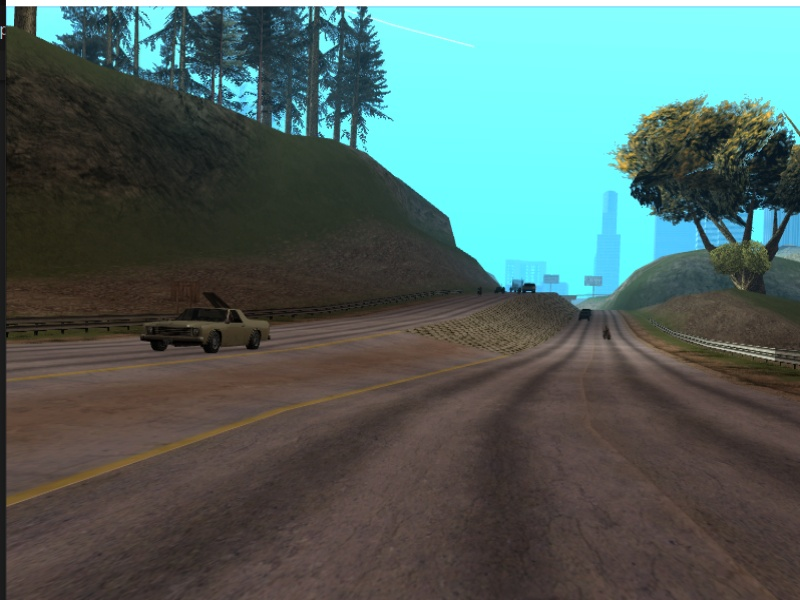vehicle: (143, 297, 276, 360), (598, 323, 612, 345), (523, 283, 537, 293), (580, 312, 591, 321)
